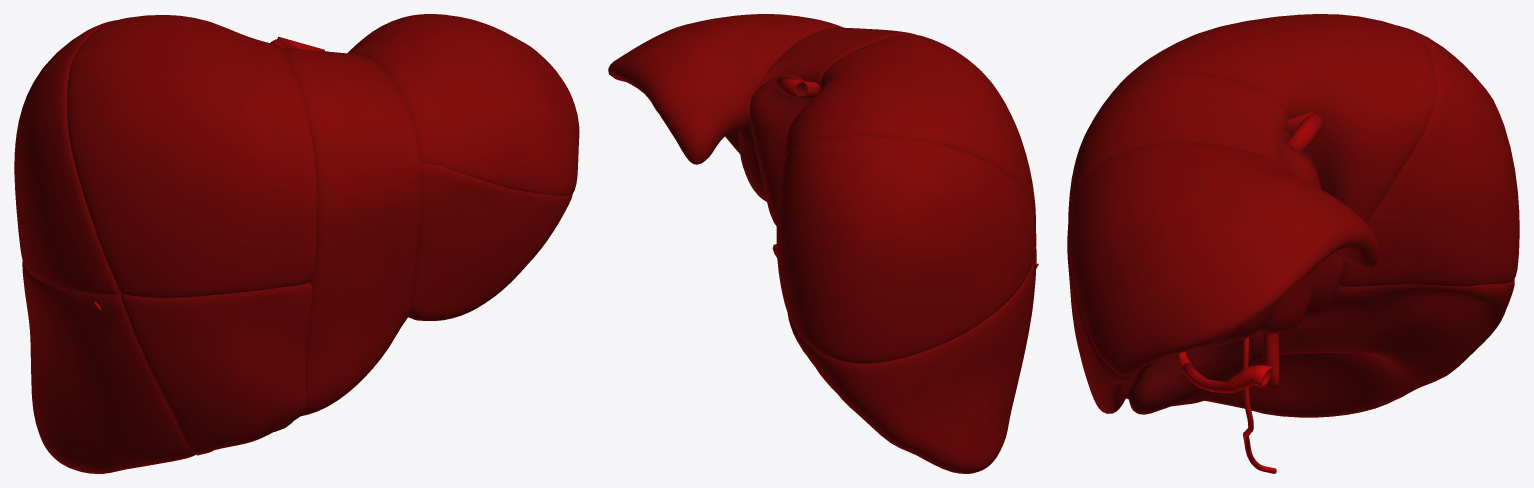
The model's file is jetra-telefon.glb.
3 views of the same model, side by side, from view 1: azimuth 30°, elevation 25°; view 2: azimuth 150°, elevation 25°; view 3: azimuth 270°, elevation 25° (orthographic). The views are drawn at different scales.
Visible parts, largest first — view 1: Posterior medial segment of liver (VIII), Left medial segment of liver (IV), Left posterior lateral segment of liver (II), Anterior medial segment of liver (V), Anterior lateral segment of liver (VI), Left anterior lateral segment of liver (III), Posterior lateral segment of liver (VII); view 2: Posterior lateral segment of liver (VII), Anterior lateral segment of liver (VI), Posterior medial segment of liver (VIII), Left posterior lateral segment of liver (II), Posterior segment of liver (I), Left medial segment of liver (IV), Left anterior lateral segment of liver (III), Hepatic veins; view 3: Left posterior lateral segment of liver (II), Posterior medial segment of liver (VIII), Posterior lateral segment of liver (VII), Anterior lateral segment of liver (VI), Left medial segment of liver (IV), Gallbladder, Posterior segment of liver (I), Left anterior lateral segment of liver (III), Common hepatic artery, Hepatic veins, Bile duct, Hepatic portal vein (+1 smaller).
Boxes of the visible parts, box(x1,y1,x2,y2) form: Posterior medial segment of liver (VIII): box(67, 15, 316, 297); Left medial segment of liver (IV): box(283, 47, 421, 416); Left posterior lateral segment of liver (II): box(347, 14, 579, 196); Anterior medial segment of liver (V): box(120, 282, 312, 454); Anterior lateral segment of liver (VI): box(22, 261, 195, 473); Left anterior lateral segment of liver (III): box(408, 163, 572, 320); Posterior lateral segment of liver (VII): box(14, 20, 119, 294); Posterior lateral segment of liver (VII): box(776, 135, 1036, 363); Anterior lateral segment of liver (VI): box(787, 248, 1036, 473); Posterior medial segment of liver (VIII): box(784, 34, 1035, 229); Left posterior lateral segment of liver (II): box(608, 14, 843, 164); Posterior segment of liver (I): box(750, 73, 811, 225); Left medial segment of liver (IV): box(760, 27, 916, 87); Left anterior lateral segment of liver (III): box(725, 127, 766, 201); Hepatic veins: box(774, 77, 820, 98); Left posterior lateral segment of liver (II): box(1069, 142, 1379, 376); Posterior medial segment of liver (VIII): box(1092, 14, 1435, 223); Posterior lateral segment of liver (VII): box(1339, 25, 1519, 286); Anterior lateral segment of liver (VI): box(1205, 279, 1514, 417); Left medial segment of liver (IV): box(1068, 73, 1290, 396); Gallbladder: box(1128, 331, 1263, 414); Posterior segment of liver (I): box(1258, 131, 1343, 333); Left anterior lateral segment of liver (III): box(1067, 193, 1278, 413); Common hepatic artery: box(1181, 362, 1272, 393); Hepatic veins: box(1287, 112, 1323, 152); Bile duct: box(1242, 337, 1276, 473); Hepatic portal vein: box(1263, 333, 1279, 388).
Size of the model in its own units: 0.2097 by 0.1703 by 0.1572.
1 material, 1 textured.
